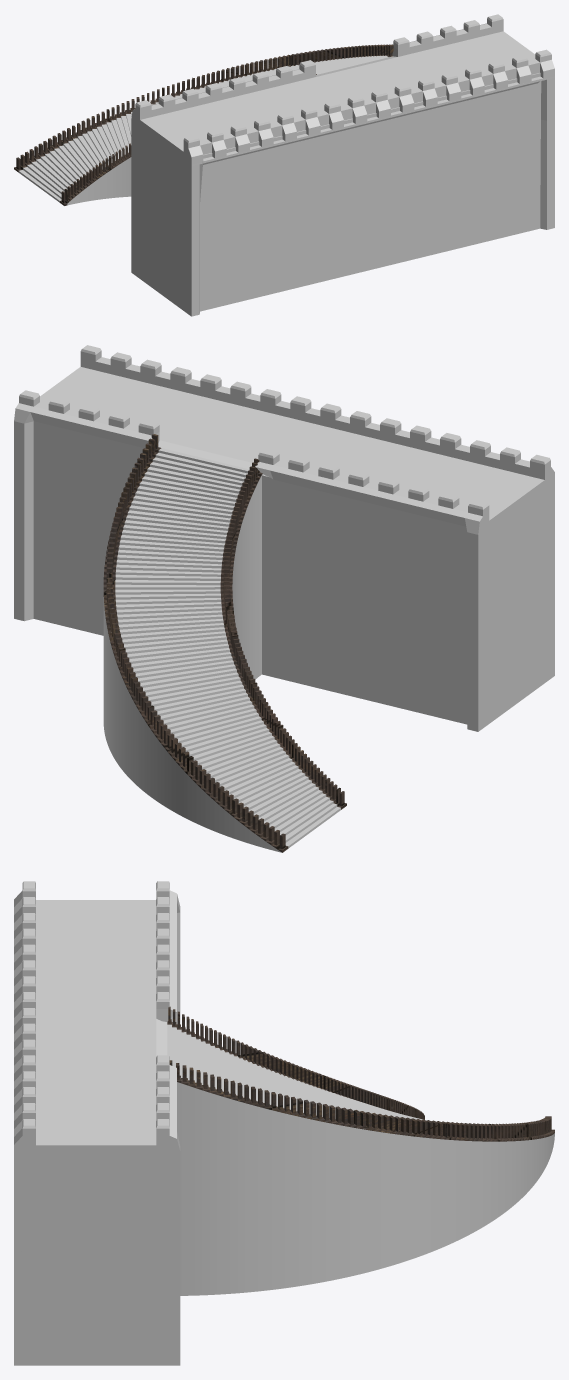
File: CastleWalls5.fbx
The picture shows the model from 3 angles, top to bottom: view 1: azimuth 30°, elevation 25°; view 2: azimuth 150°, elevation 25°; view 3: azimuth 270°, elevation 25°; orthographic projection. The views are drawn at different scales.
Parts seen in each view (by area): view 1: HradbyASchody.001; view 2: HradbyASchody.001; view 3: HradbyASchody.001.
Part boxes in pixels (x1=…): HradbyASchody.001: x1=14, y1=14, x2=554, y2=316; HradbyASchody.001: x1=14, y1=345, x2=554, y2=852; HradbyASchody.001: x1=14, y1=881, x2=554, y2=1365.
Bounding box in the file's own units: 3746 × 1703 × 3488.
